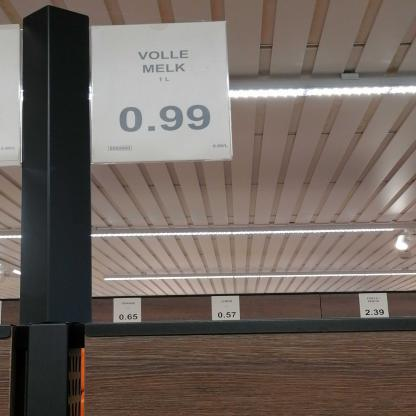prtg: (89, 20, 235, 166), (359, 293, 390, 319), (211, 297, 242, 322), (113, 299, 143, 324)
